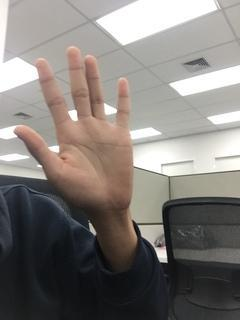hand: (14, 45, 134, 212)
